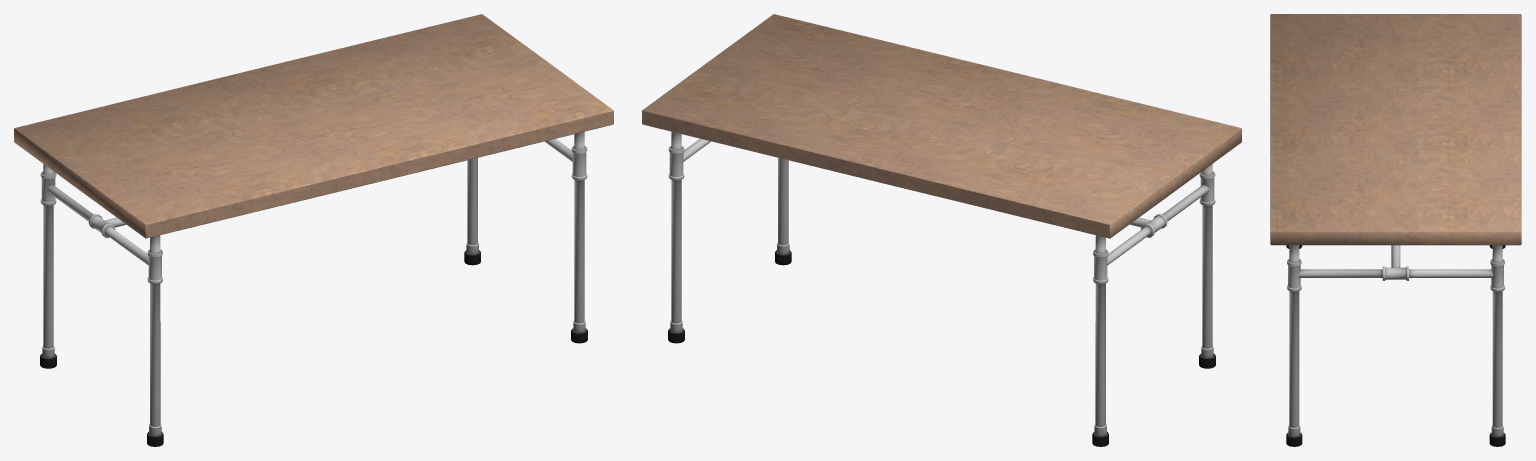
The model's file is industrial_table.glb.
3 renders of one model, left to right at view 1: azimuth 30°, elevation 25°; view 2: azimuth 150°, elevation 25°; view 3: azimuth 270°, elevation 25°, orthographic. The views are drawn at different scales.
Visible parts, largest first — view 1: industrial_table; view 2: industrial_table; view 3: industrial_table.
Part boxes in pixels (box(x1,y1,x2,y2)): industrial_table: box(14, 14, 613, 446); industrial_table: box(642, 14, 1241, 446); industrial_table: box(1270, 14, 1521, 446).
Size of the model in its own units: 2 by 0.9526 by 0.9752.
Materials: 1 (1 with a texture image).
